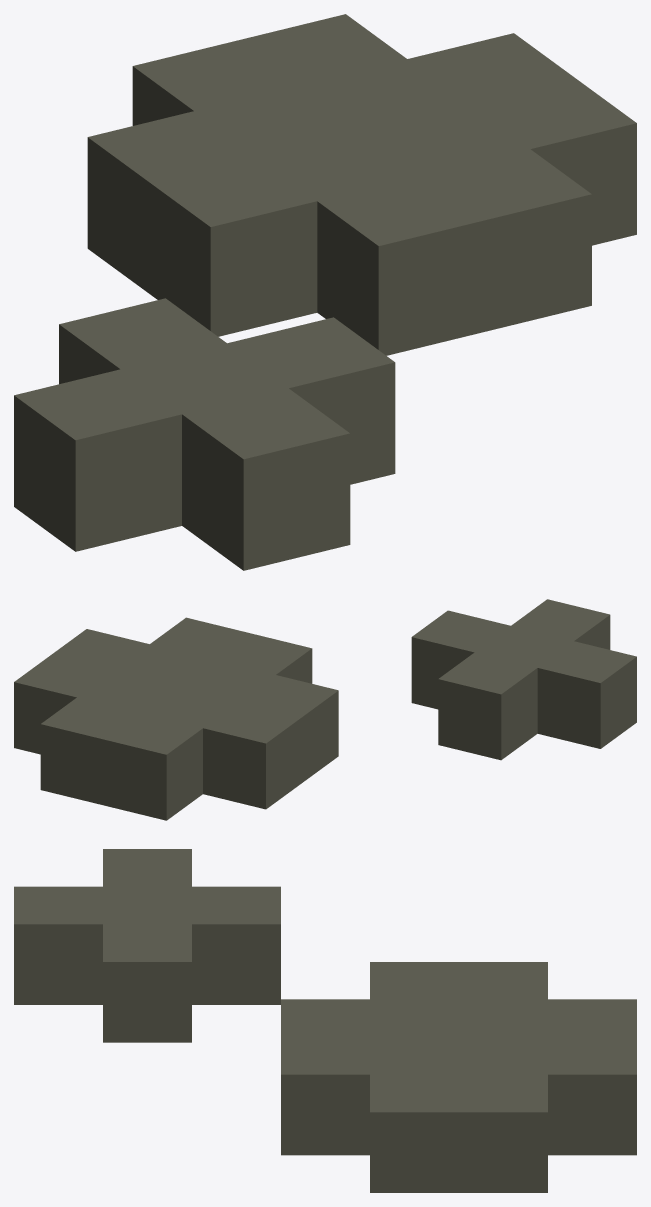
The model's file is Stones.fbx.
3 renders of one model, top to bottom at view 1: azimuth 30°, elevation 25°; view 2: azimuth 150°, elevation 25°; view 3: azimuth 270°, elevation 25°, orthographic. The views are drawn at different scales.
Parts seen in each view (by area): view 1: Stones; view 2: Stones; view 3: Stones.
Part boxes in pixels (x1,y1,x2,y2): Stones: (14, 14, 636, 570); Stones: (14, 599, 636, 820); Stones: (14, 849, 636, 1192).
Bounding box in the file's own units: 87.5 × 12.5 × 87.5.
